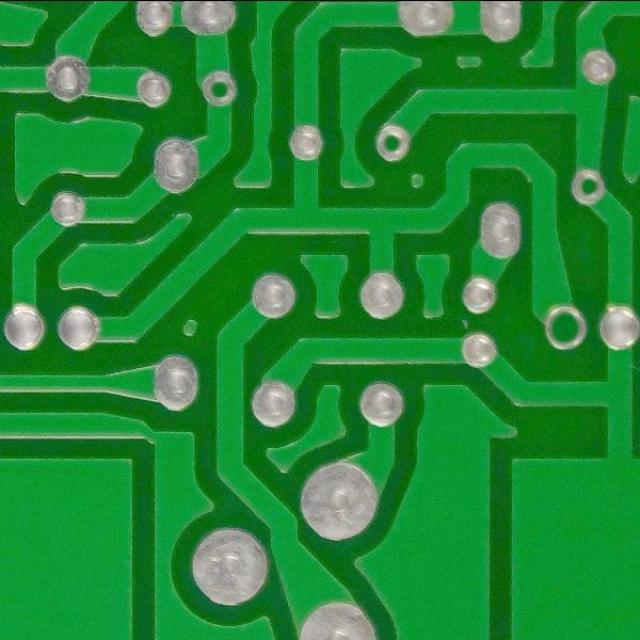Missing_Hole: (536, 301, 595, 355), (369, 120, 418, 166), (195, 66, 244, 111), (564, 165, 614, 209)
